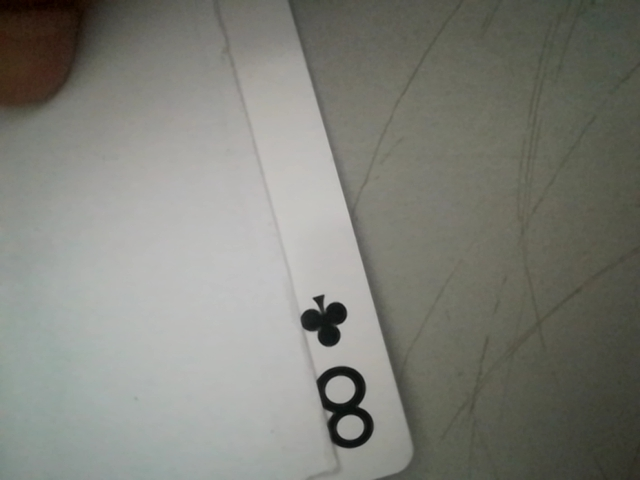mh 8: (292, 287, 394, 460)
